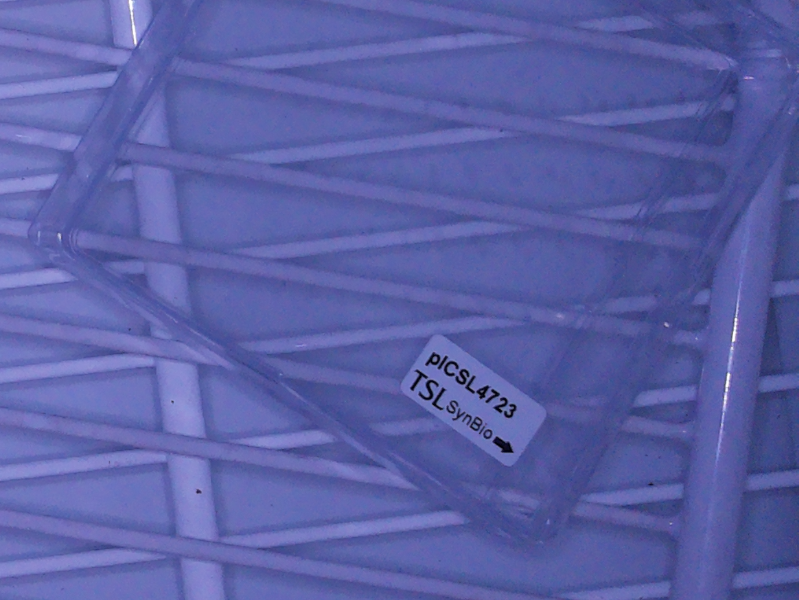plate: (26, 1, 799, 552)
